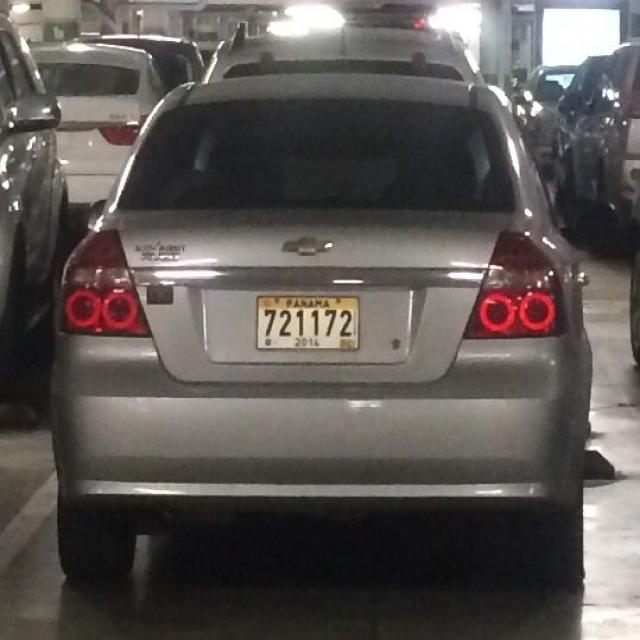Placas: (251, 290, 365, 356)
